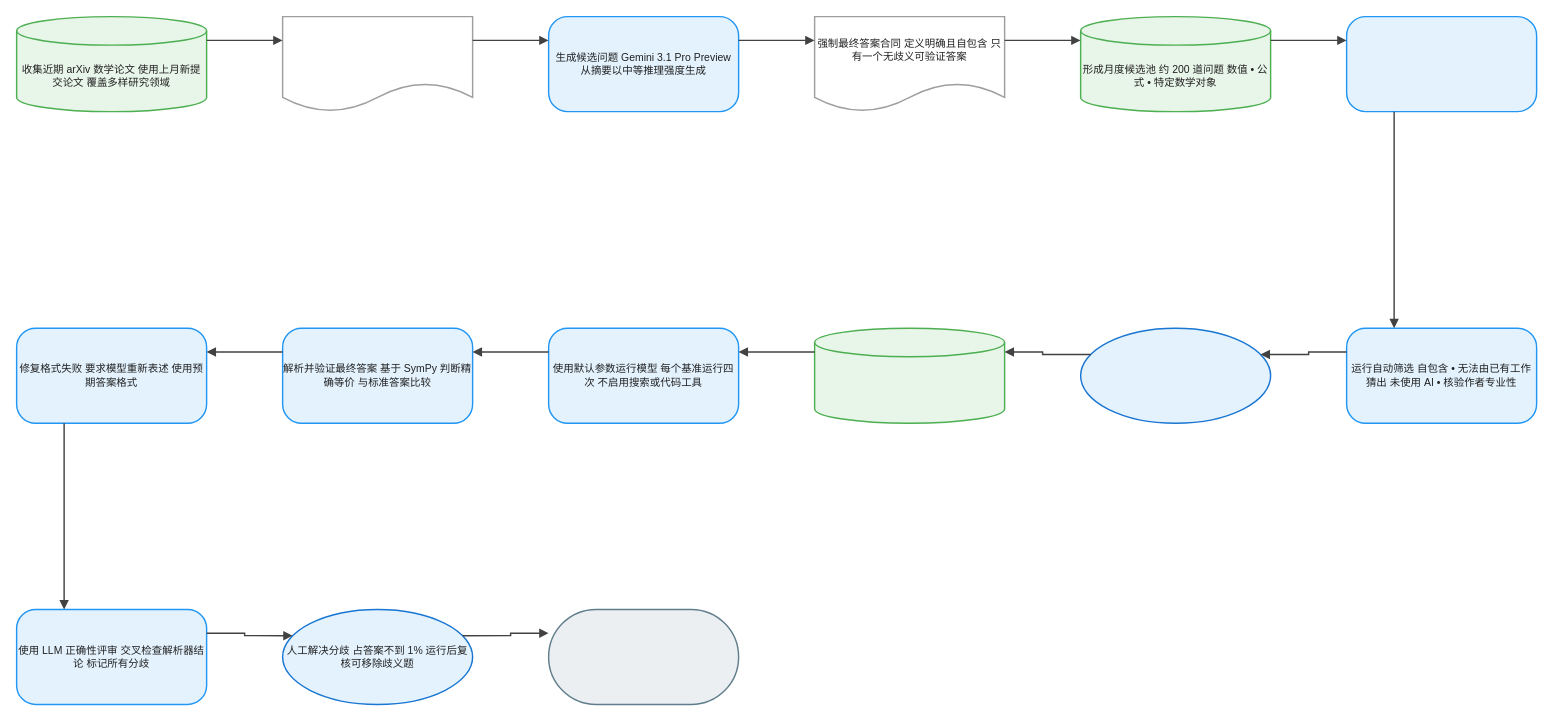
Image size: 1554x722. Some labels were removed from this diagram. Each missing label, with the centre of its shape:
"作者人工复核 定义明确 • 非平凡 • 有研究价值 删除所有存疑问题" goes at (1175,375).
"发布月度 ArXivMath 复核后约保留 30 题 保存最终答案标准值" goes at (909,375).
"汇报 ArXivMath 表现 多次运行平均最终答案准确率 跟踪成本与月度版本" goes at (643,656).
"补齐缺失上下文 用 DeepSeek-OCR-2 转换全文 加入必要假设" goes at (1441,63).
"阅读标题与摘要 聚焦论文核心研究结果 拒绝不适合的摘要" goes at (377,63).
